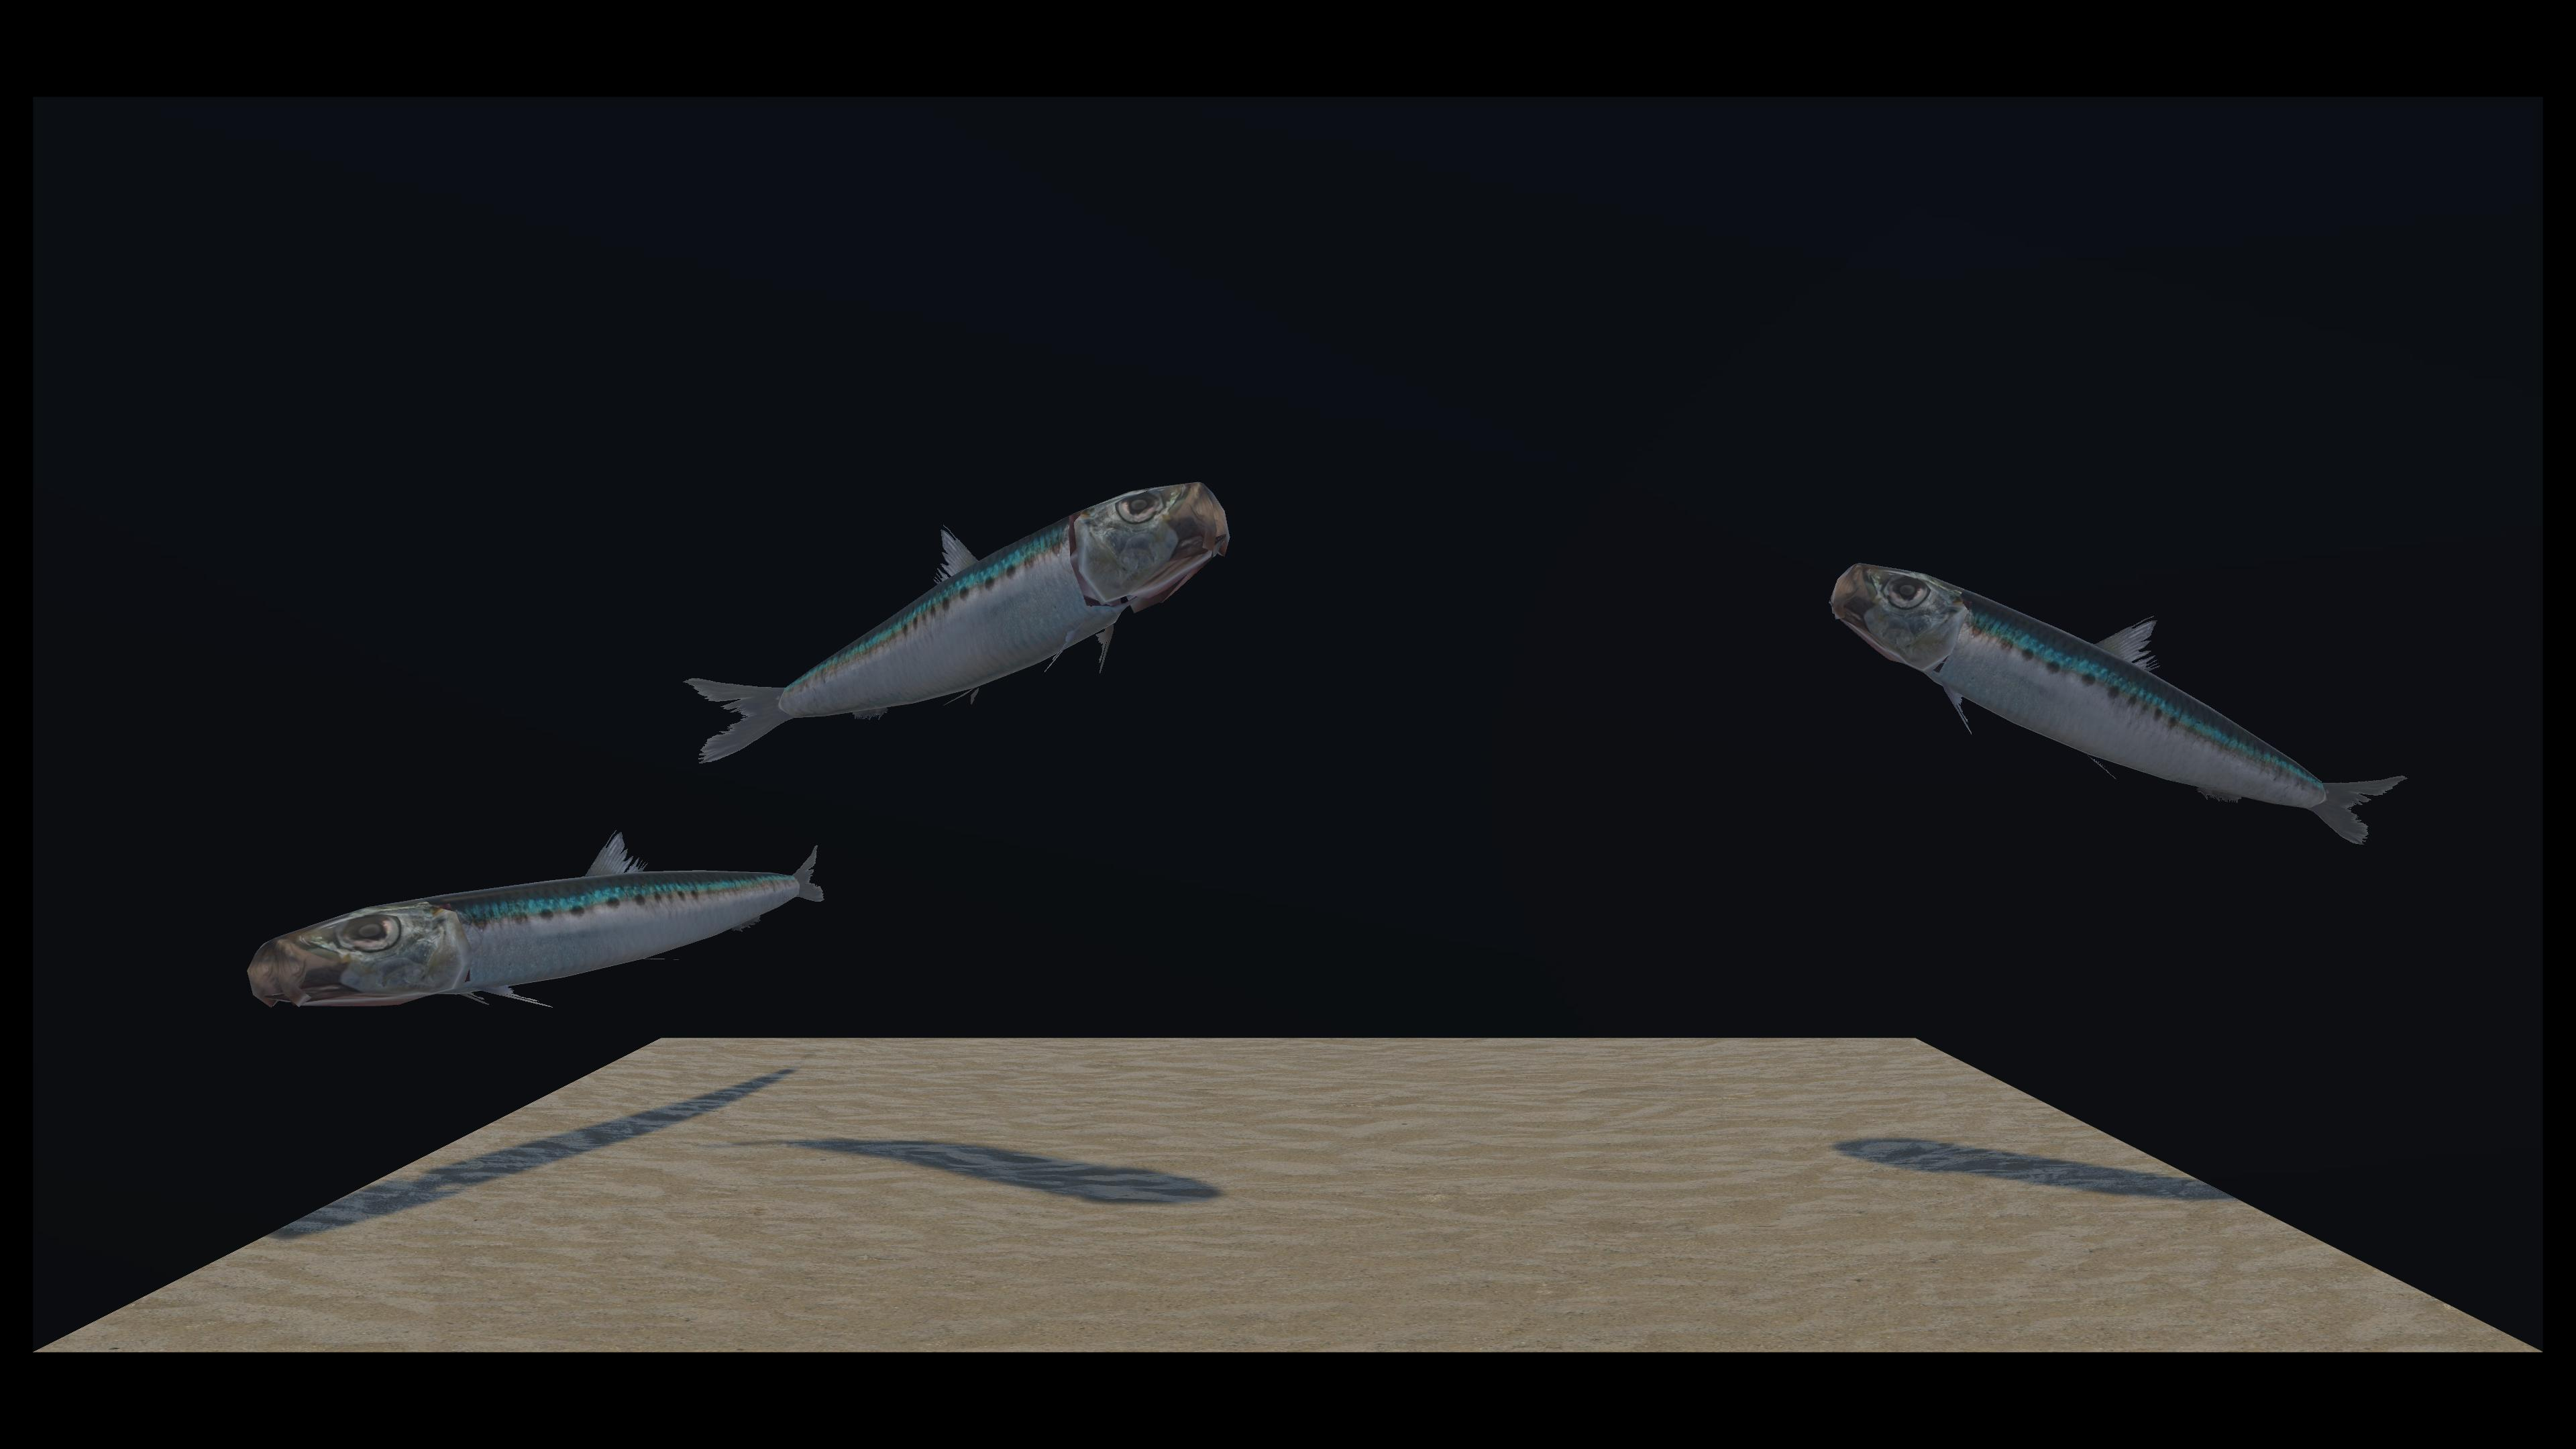Sardine_Front: (278, 317, 922, 1019), (858, 564, 2413, 849), (695, 483, 1196, 761)
